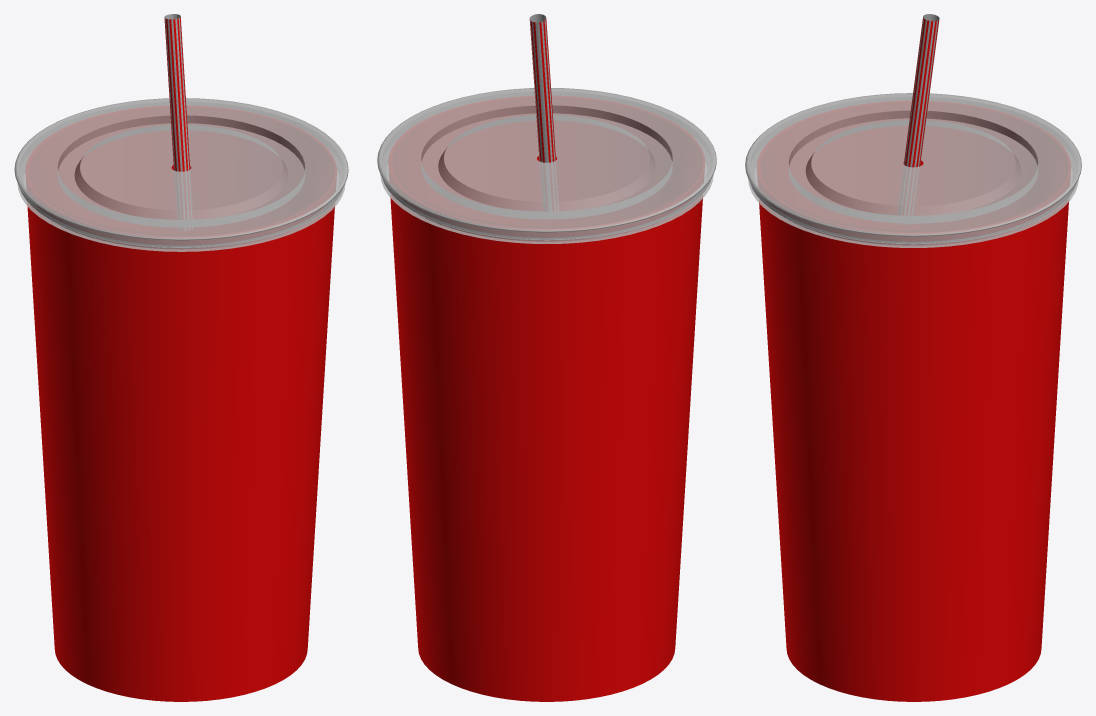
File: soda.glb
3 renders of one model, left to right at view 1: azimuth 30°, elevation 25°; view 2: azimuth 150°, elevation 25°; view 3: azimuth 270°, elevation 25°, orthographic.
Parts seen in each view (by area): view 1: Cup, Lid, Straw; view 2: Cup, Lid, Straw; view 3: Cup, Lid, Straw.
Part boxes in pixels (x1=…): Cup: x1=26, y1=106, x2=336, y2=701; Lid: x1=14, y1=98, x2=348, y2=251; Straw: x1=164, y1=14, x2=192, y2=230; Cup: x1=389, y1=96, x2=704, y2=701; Lid: x1=377, y1=88, x2=716, y2=243; Straw: x1=529, y1=14, x2=558, y2=210; Cup: x1=757, y1=101, x2=1070, y2=701; Lid: x1=745, y1=93, x2=1081, y2=247; Straw: x1=898, y1=14, x2=939, y2=224.
Bounding box in the file's own units: 6.2 × 12.83 × 6.2.
